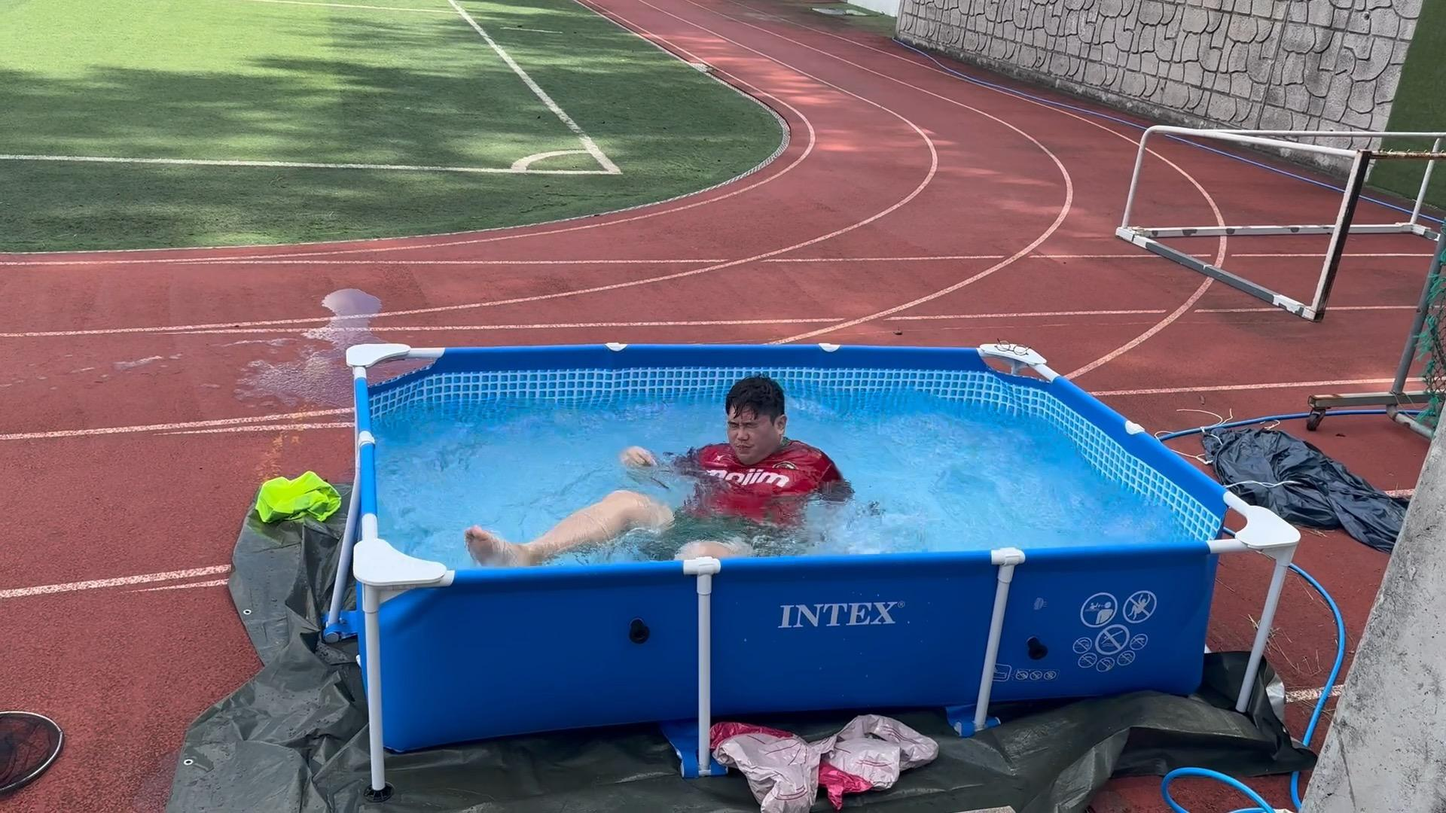Drowning: (459, 381, 883, 575)
